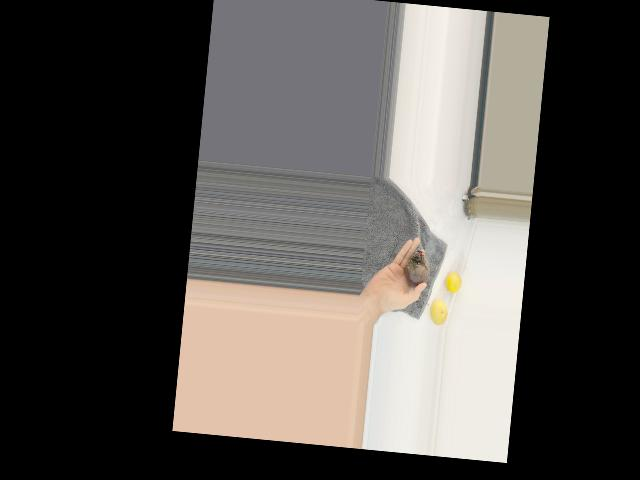beet: (401, 249, 434, 305)
